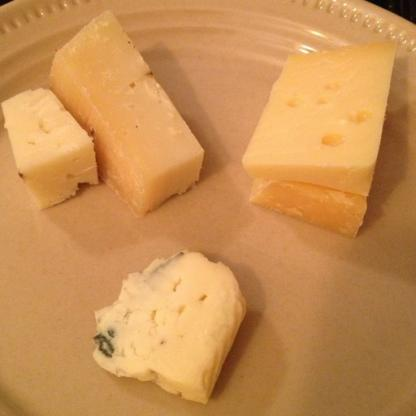cheese: (45, 18, 206, 210), (245, 44, 396, 240)
